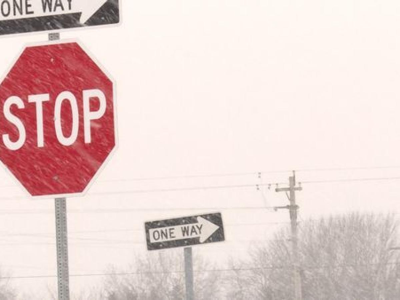stop: (1, 61, 112, 176)
